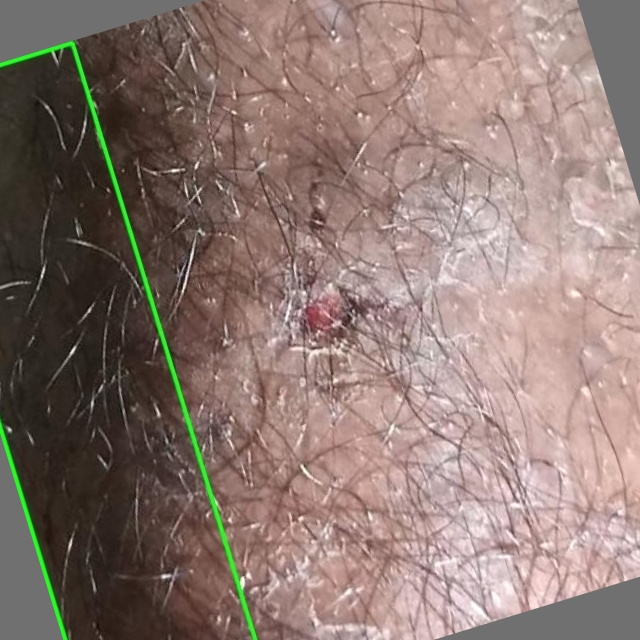Eczema: (0, 42, 254, 639)
